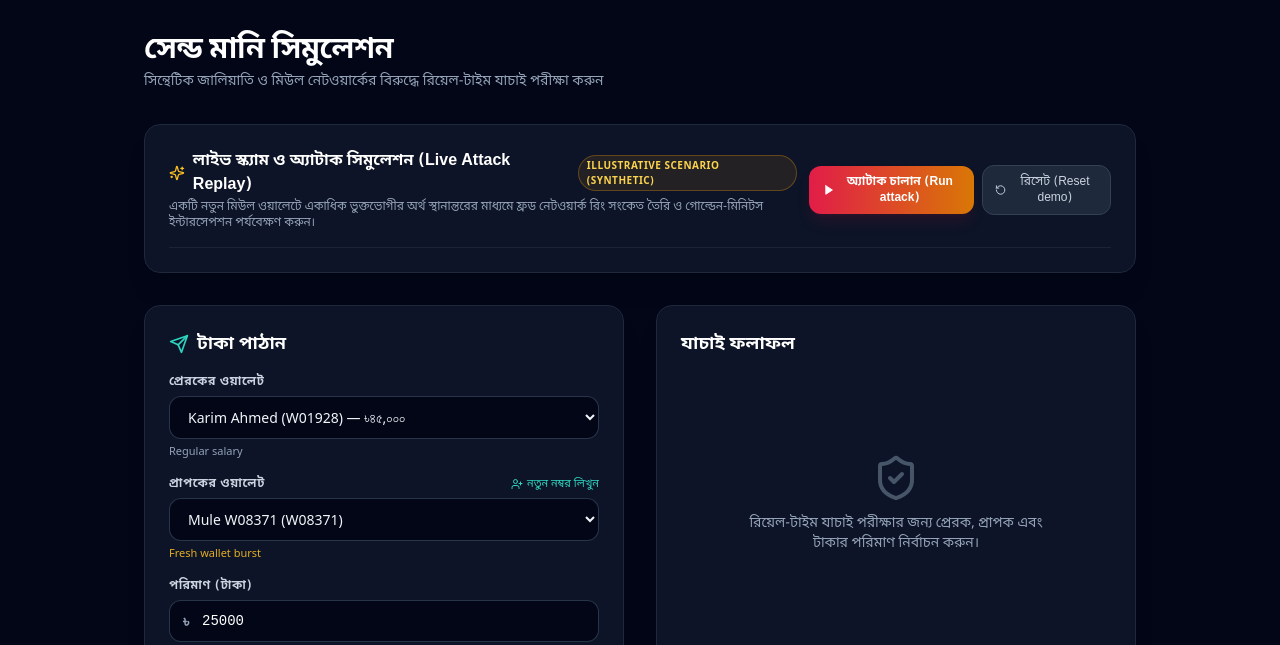
CustomerDemo Component Tests › runs attack simulation and renders 5 animated steps
The width and height of the screenshot is (1280, 645).
Click the button "অ্যাটাক চালান (Run attack)": (891, 190) [809,166,974,214]
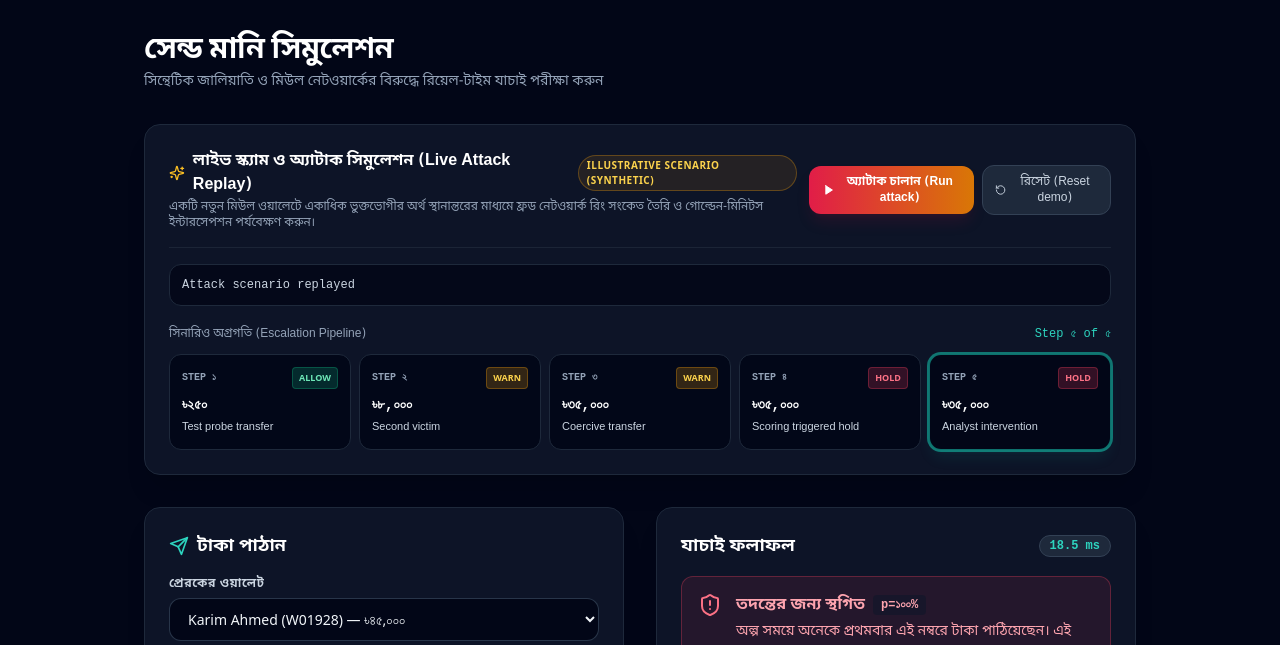
Expected: the text "Illustrative scenario (synthetic)" is shown, [578,155,796,191]
Result: the text "Attack scenario replayed" is shown at [182,277,355,293]
